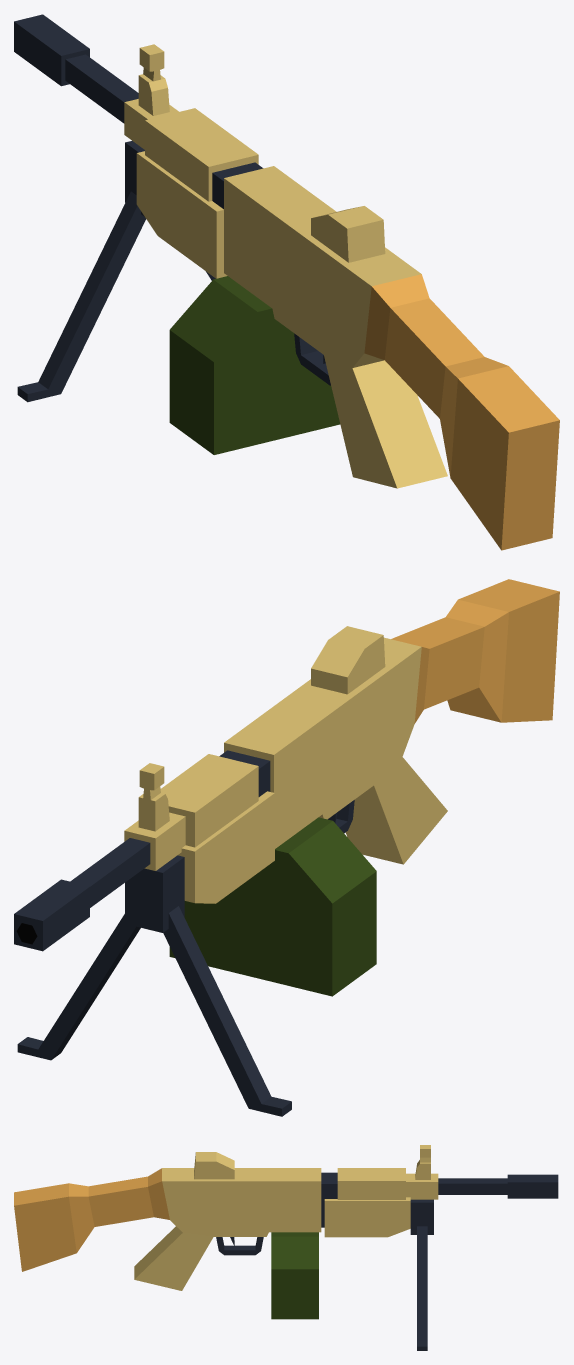
Rendered from weapon_machinegun.fbx.
3 renders of one model, top to bottom at view 1: azimuth 30°, elevation 25°; view 2: azimuth 150°, elevation 25°; view 3: azimuth 270°, elevation 25°, orthographic. The views are drawn at different scales.
Visible parts, largest first — view 1: Cube; view 2: Cube; view 3: Cube.
Part boxes in pixels (x1,y1,x2,y2): Cube: (14,14,559,550); Cube: (14,579,559,1116); Cube: (14,1145,558,1350).
Bounding box in the file's own units: 52.79 × 59.98 × 175.
